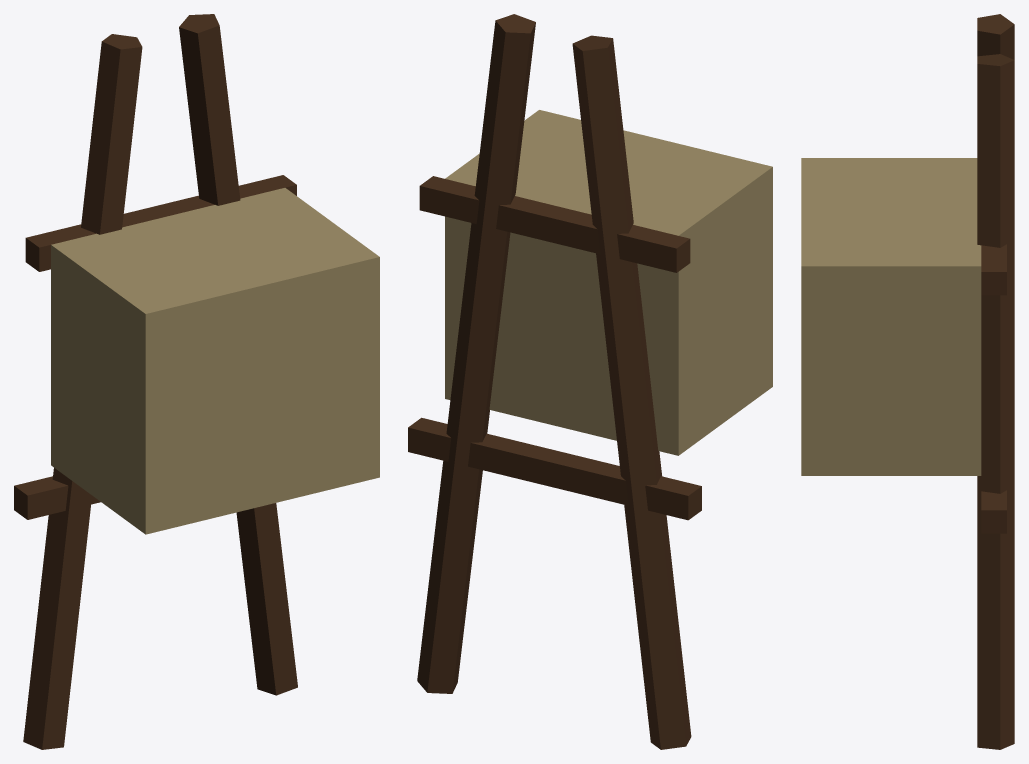
File: market_jige.glb
The picture shows the model from 3 angles, left to right: view 1: azimuth 30°, elevation 25°; view 2: azimuth 150°, elevation 25°; view 3: azimuth 270°, elevation 25°; orthographic projection. The views are drawn at different scales.
Visible parts, largest first — view 1: market_jige; view 2: market_jige; view 3: market_jige.
Boxes of the visible parts, x1,y1,x2,y2 form: market_jige: (14, 14, 379, 749); market_jige: (408, 14, 772, 749); market_jige: (801, 14, 1014, 749).
Bounding box in the file's own units: 0.6 × 1.4 × 0.415.
